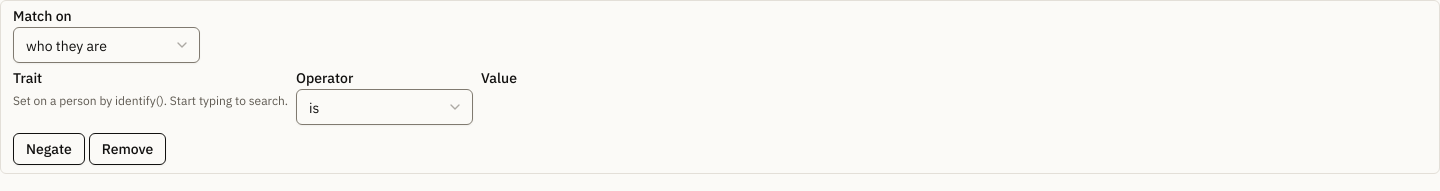
Scenario: ConditionRow › switching to context leaves exactly the not-filled-in-yet fields blank, and every other field a real choice
Select "where they came from" in the dropdown labelled "Match on" at (106, 45), box top-left (13, 27), bottom-right (200, 63)
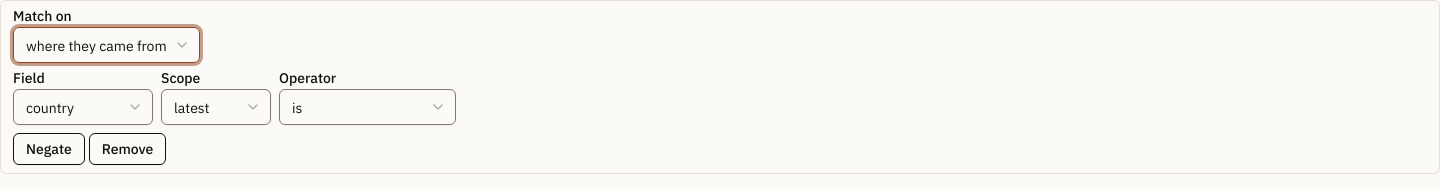
Expected: the dropdown labelled "Field" is shown, top-left (13, 89), bottom-right (153, 125)
